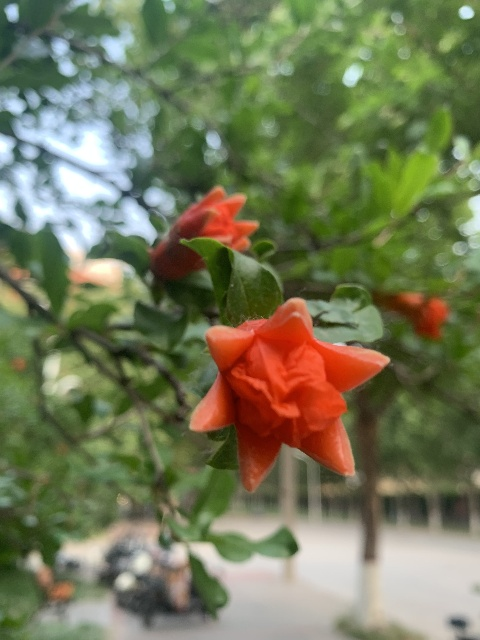flower: (189, 297, 390, 493), (148, 185, 260, 280), (374, 292, 450, 340)
